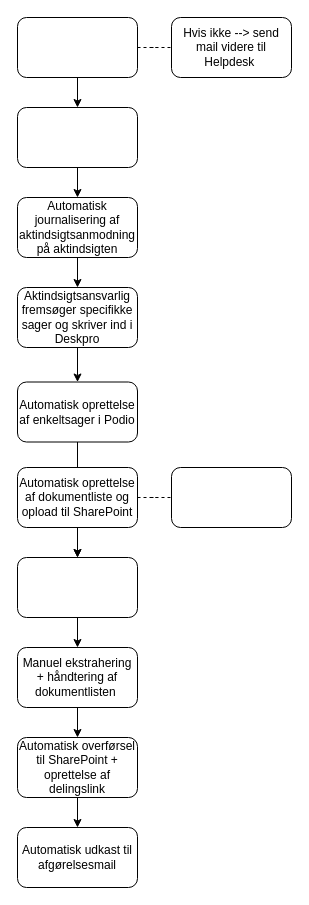
Some shapes in this 309 by 905 pixel diagram are drawn without their labels. Here are the shapes that lost their labels. From the top down, the box of each, then its label:
(16, 16, 138, 78): Modtagelse af Aktindsigt via OS2Forms
(16, 106, 138, 168): Automatisk oprettelse af Aktindsigtssag i GetOrginaized
(170, 466, 292, 528): Mail udsendes med link
(16, 556, 138, 618): Automatisk indhentning af dokumenter + overførsel til Filarkiv
